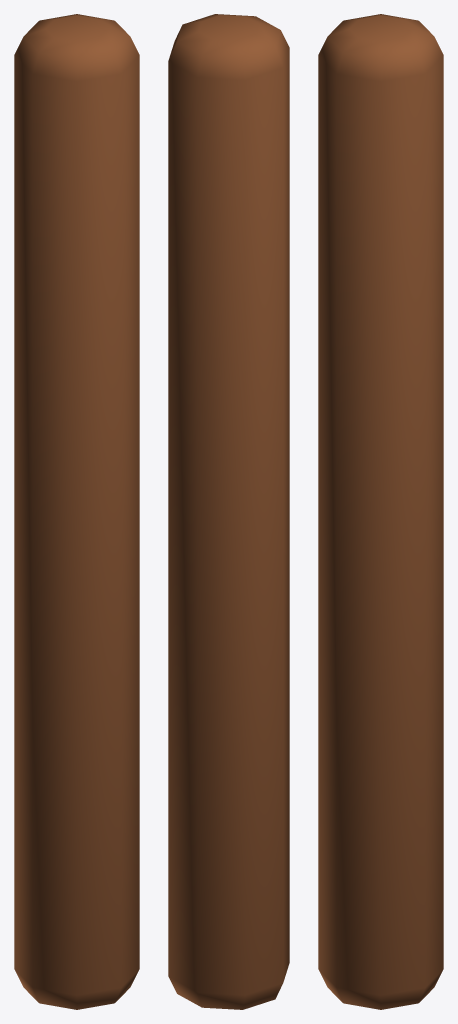
The model's file is SM_Dock_Post.fbx.
The picture shows the model from 3 angles, left to right: view 1: azimuth 90°, elevation 25°; view 2: azimuth 150°, elevation 25°; view 3: azimuth 270°, elevation 25°; orthographic projection.
Visible parts, largest first — view 1: SM_Dock_Post; view 2: SM_Dock_Post; view 3: SM_Dock_Post.
Part boxes in pixels (x1,y1,x2,y2): SM_Dock_Post: (14, 14, 139, 1009); SM_Dock_Post: (168, 14, 289, 1009); SM_Dock_Post: (318, 14, 443, 1009).
Size of the model in its own units: 0.4332 by 3.68 by 0.4332.
